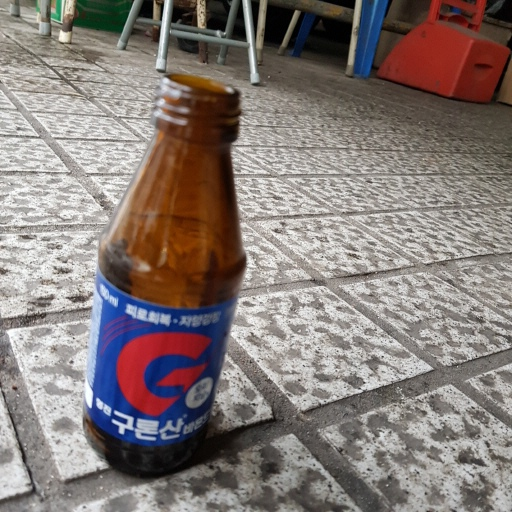Glass_3: (85, 67, 256, 481)
